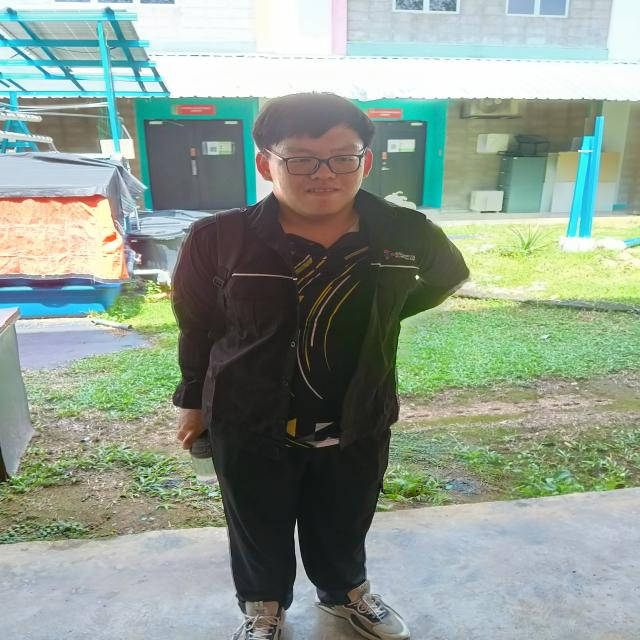person_with_labcoat: (173, 93, 469, 640)
